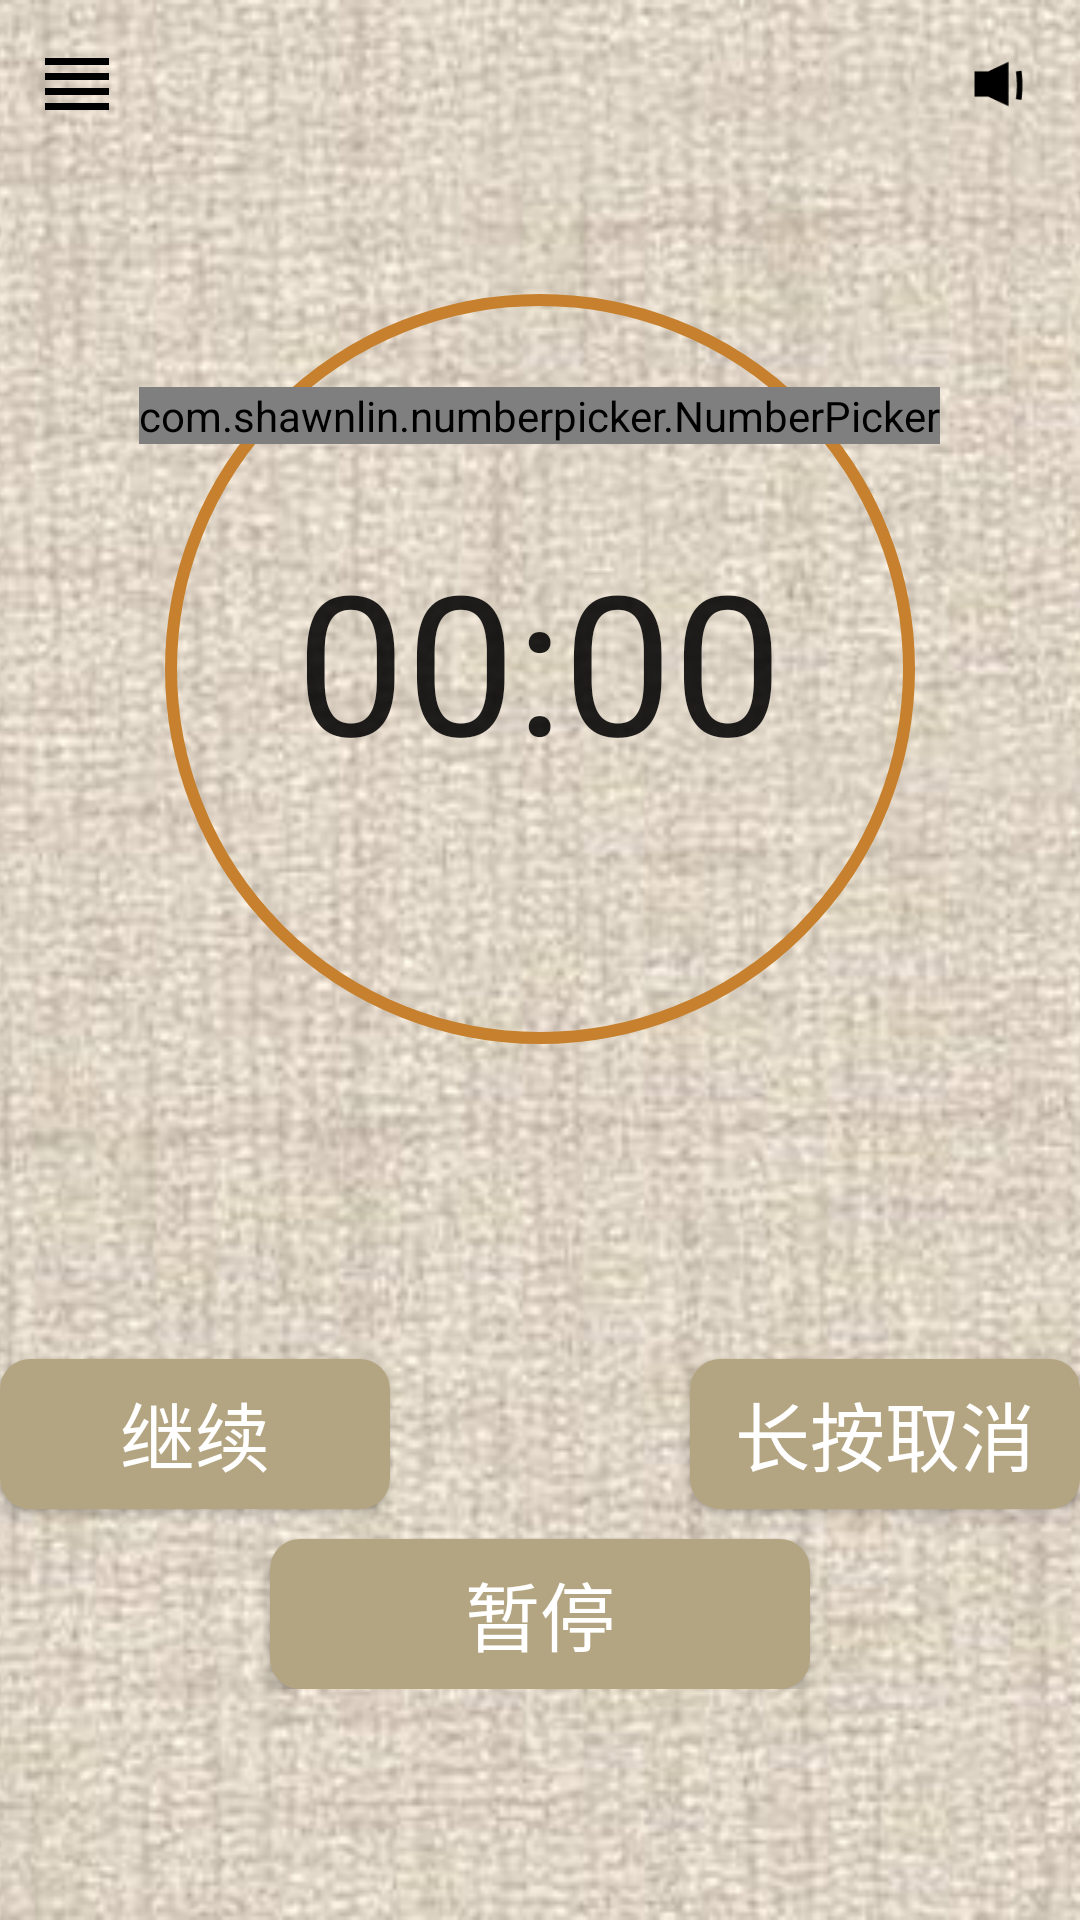

Where icons sit on this 1080 x 1920 app screen, as (left=x1, top=y1, right=x2, bottom=y2):
view headline: (left=30, top=45, right=115, bottom=129)
